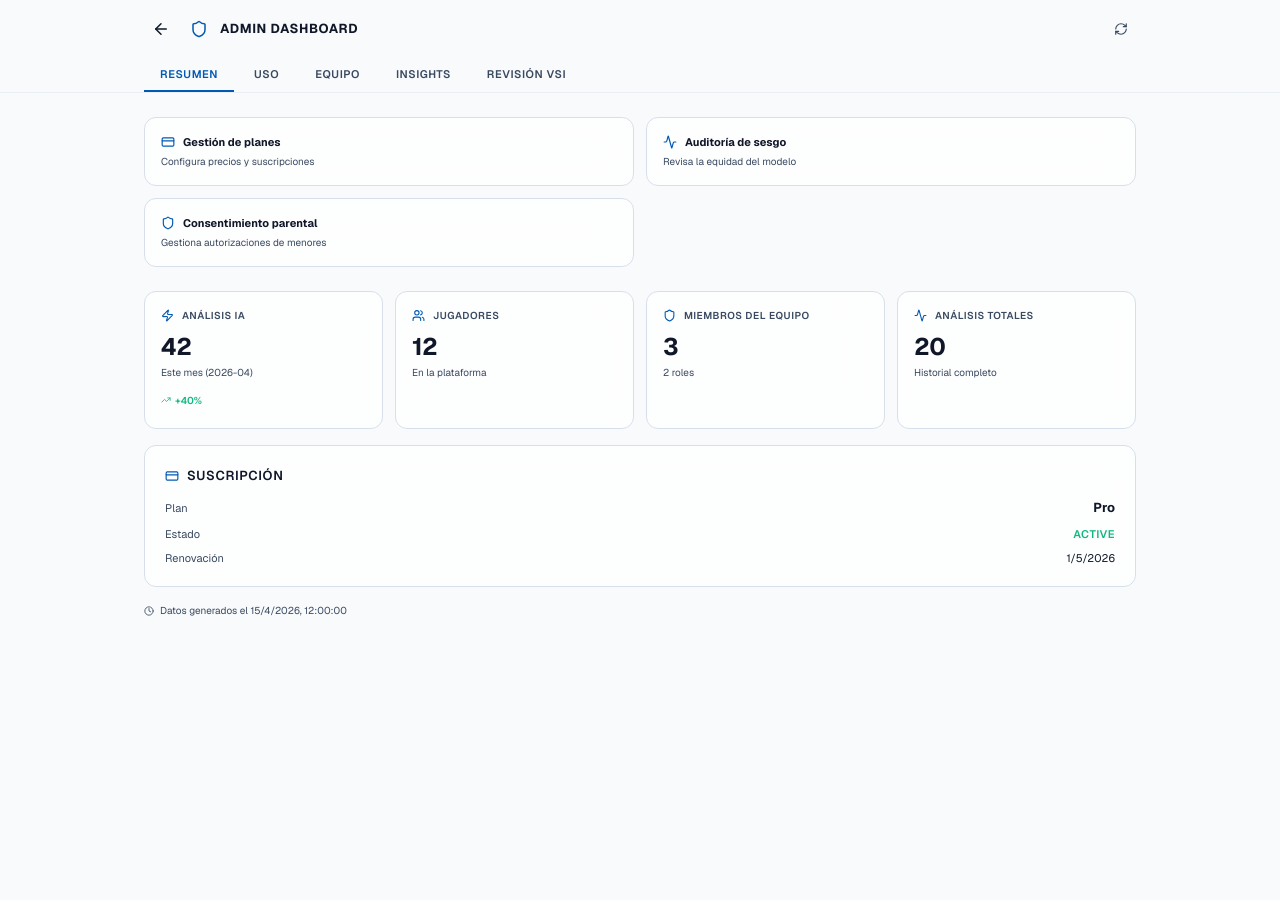
AdminDashboardPage › tabs con data cargada › tab Uso IA muestra breakdown de endpoints
This screenshot has width=1280, height=900.
Note: Tab label is now "Uso" (adminDashboardPage.tabUsage), no longer "Uso IA"
Click the button "Uso" at (267, 75), box [238,58,295,92]
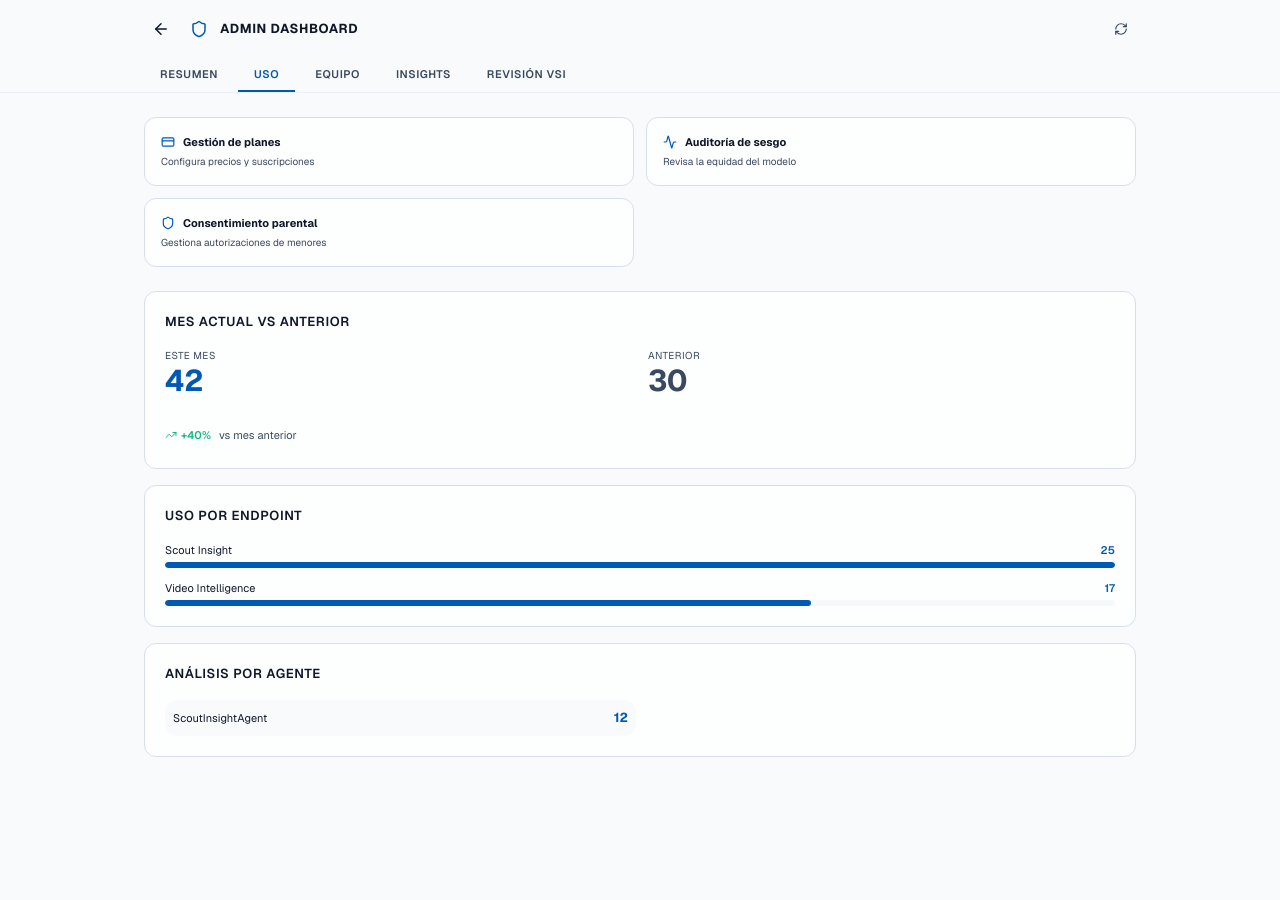
Check: the heading "Mes actual vs anterior" is shown, box [165,313,350,330]
Check: the text "Scout Insight" is shown, box [165,542,232,558]
Check: the text "Video Intelligence" is shown, box [165,580,256,596]
